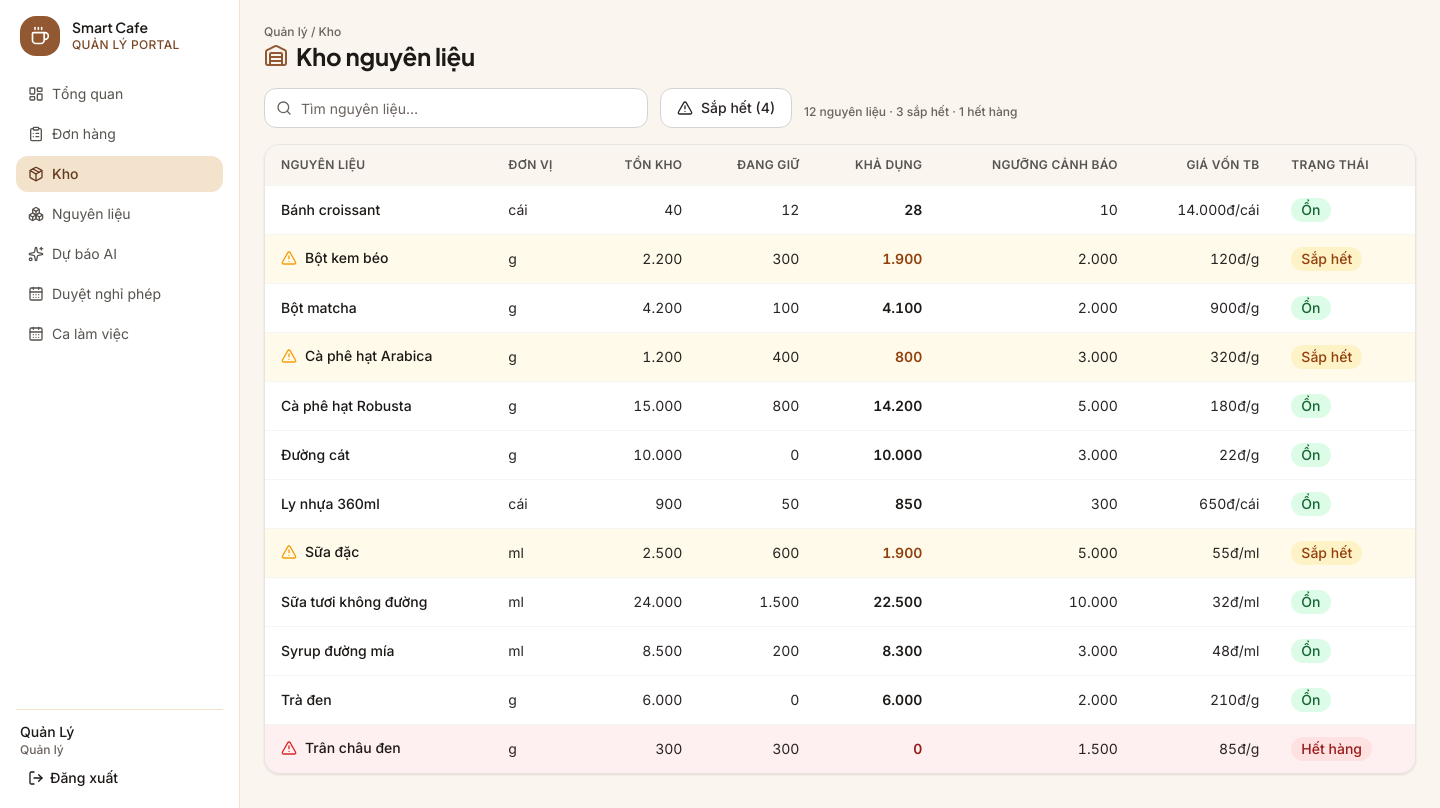
/manager/inventory › điều chỉnh kho thành công: validate lý do, cập nhật bảng, ghi log và tăng version
Click the button "Cà phê hạt Robusta" at (346, 406), box 281,396 -> 412,416
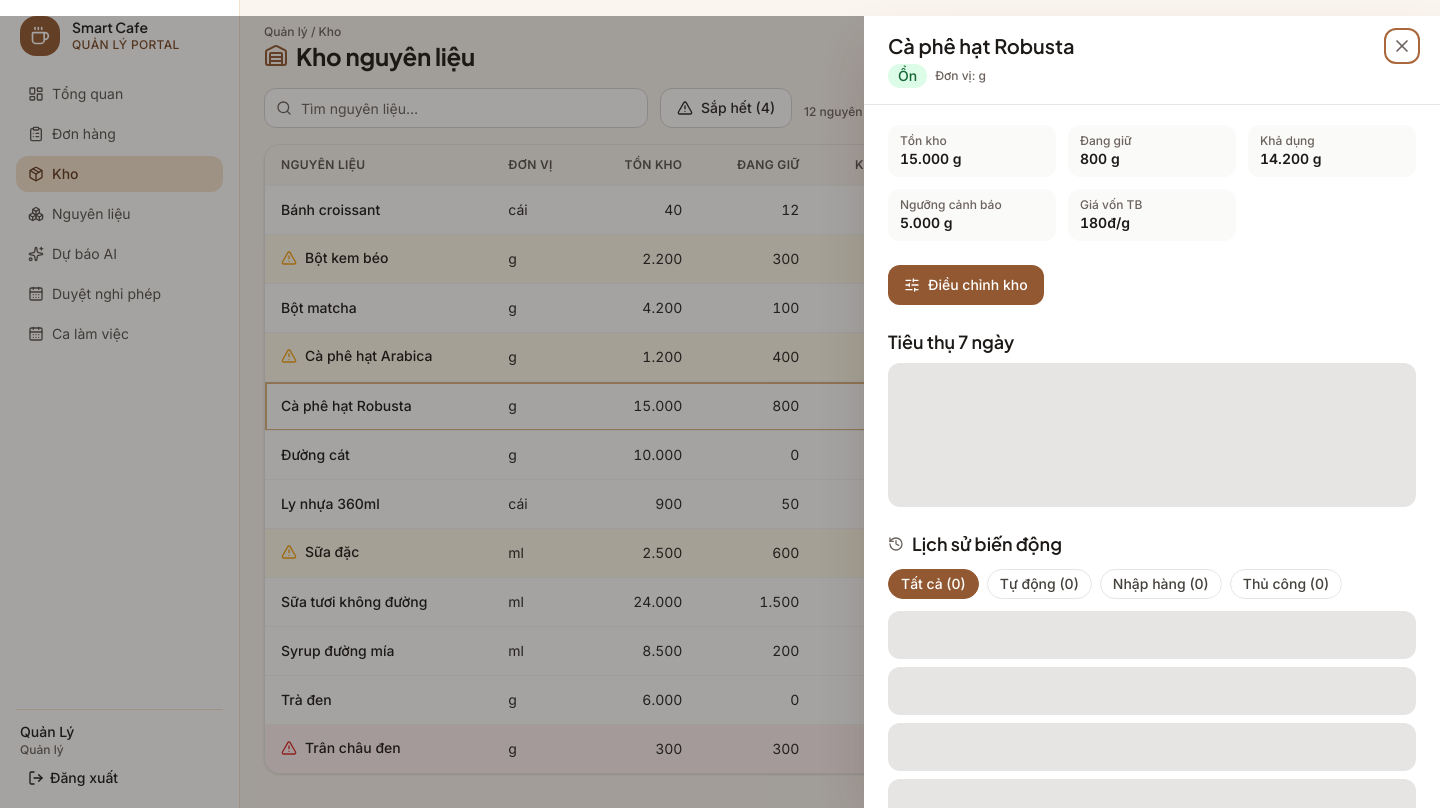
Click the button "Điều chỉnh kho" at (966, 285), box 888,265 -> 1044,305
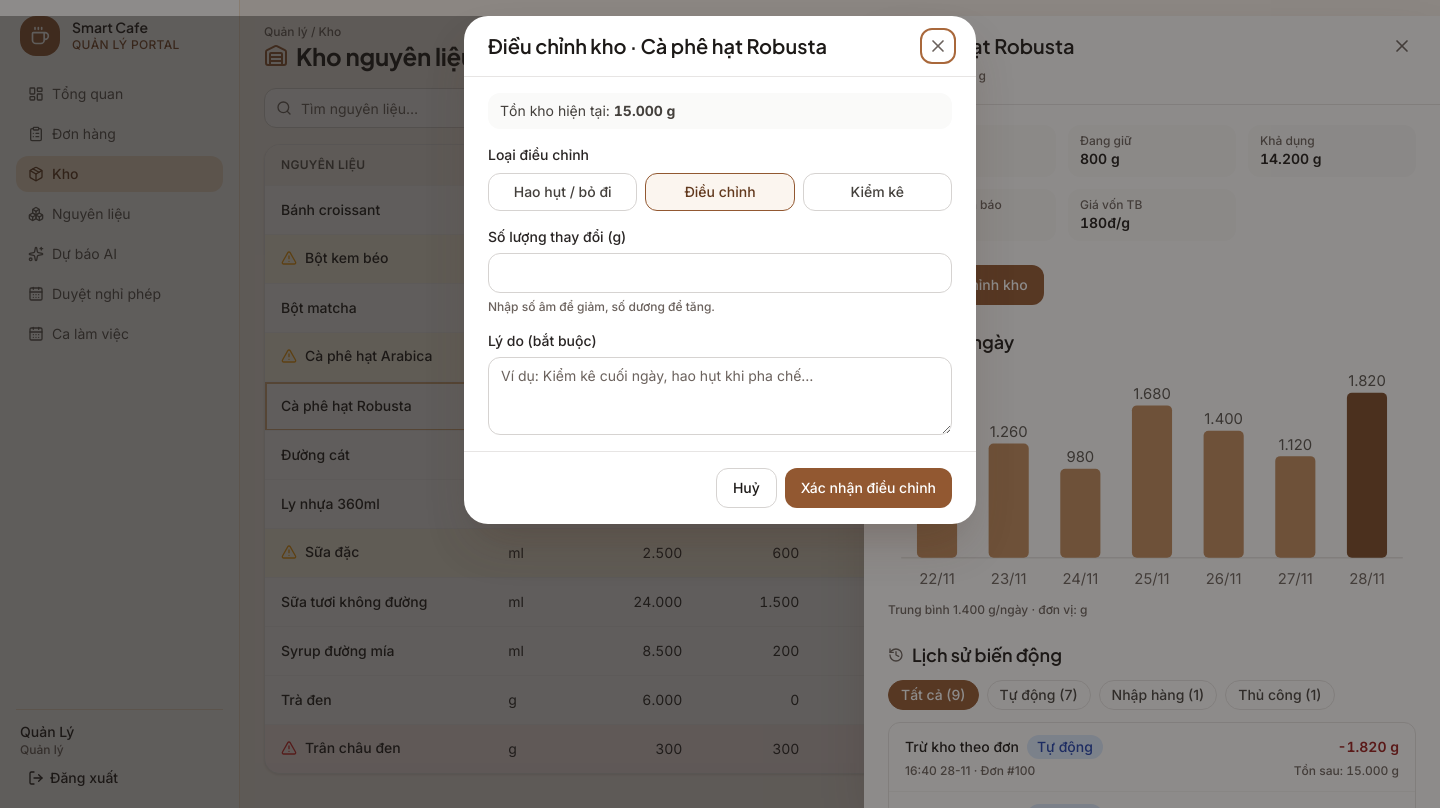
Expected: the heading "Điều chỉnh kho · Cà phê hạt Robusta" is shown, 488,32 -> 827,60
Type "-500" into the number field labelled "Số lượng thay đổi (g)" at (720, 273), box 488,253 -> 952,293
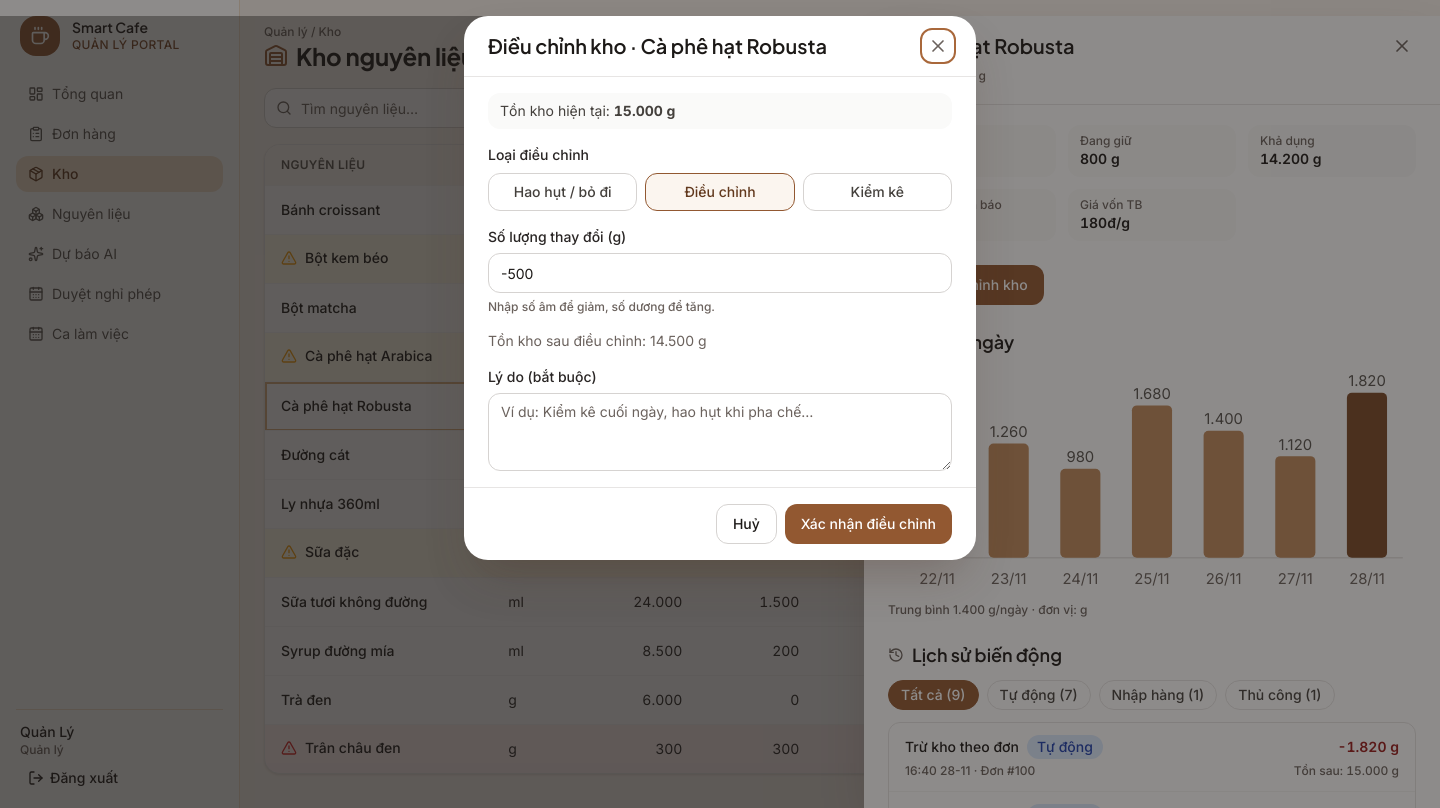
Click the button "Xác nhận điều chỉnh" at (868, 524), box 785,504 -> 952,544
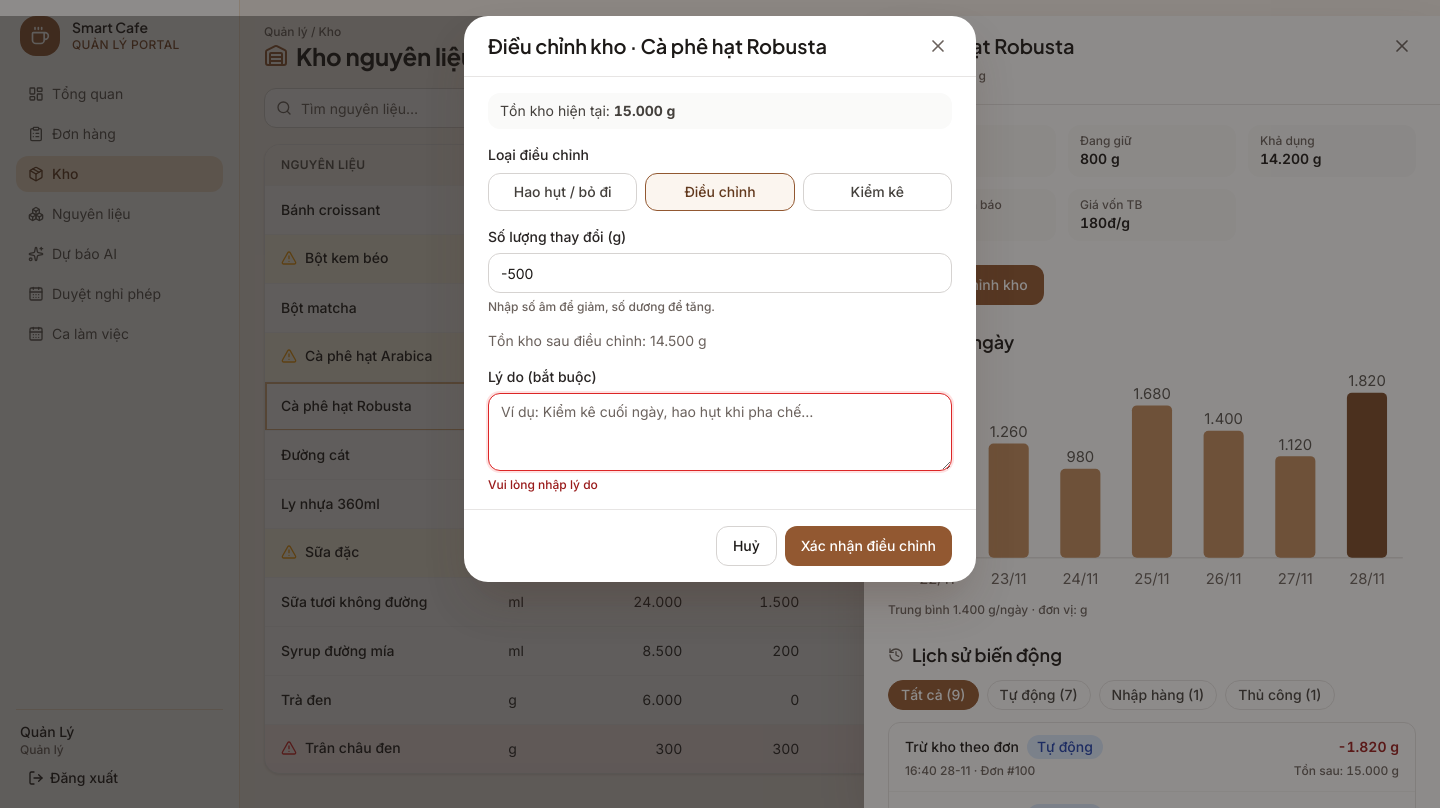
Expected: the text "Vui lòng nhập lý do" is shown, 488,477 -> 598,492
Type "Đổ nhầm bao hạt" into the text box labelled "Lý do (bắt buộc)" at (720, 432), box 488,393 -> 952,471
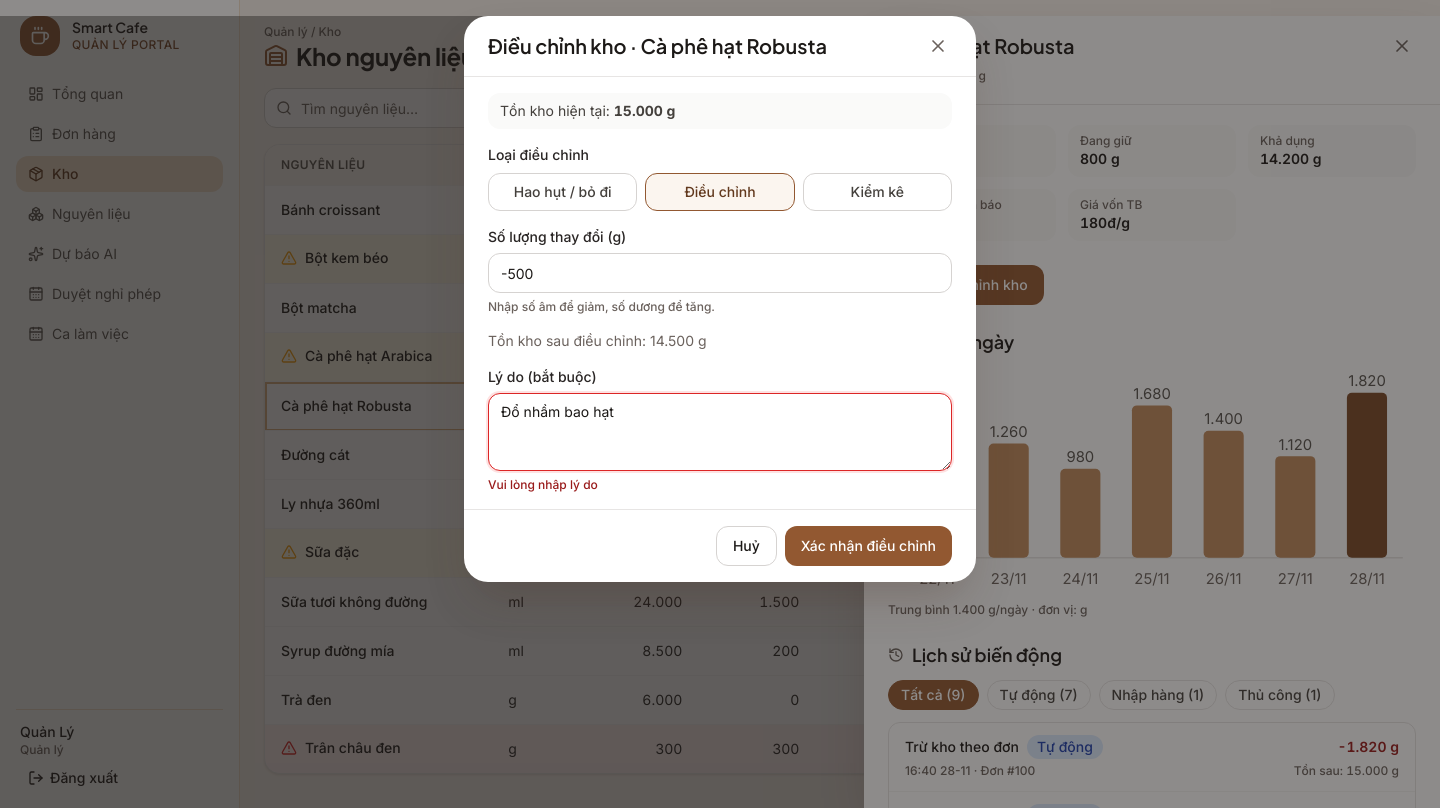
Click the button "Xác nhận điều chỉnh" at (868, 546), box 785,526 -> 952,566
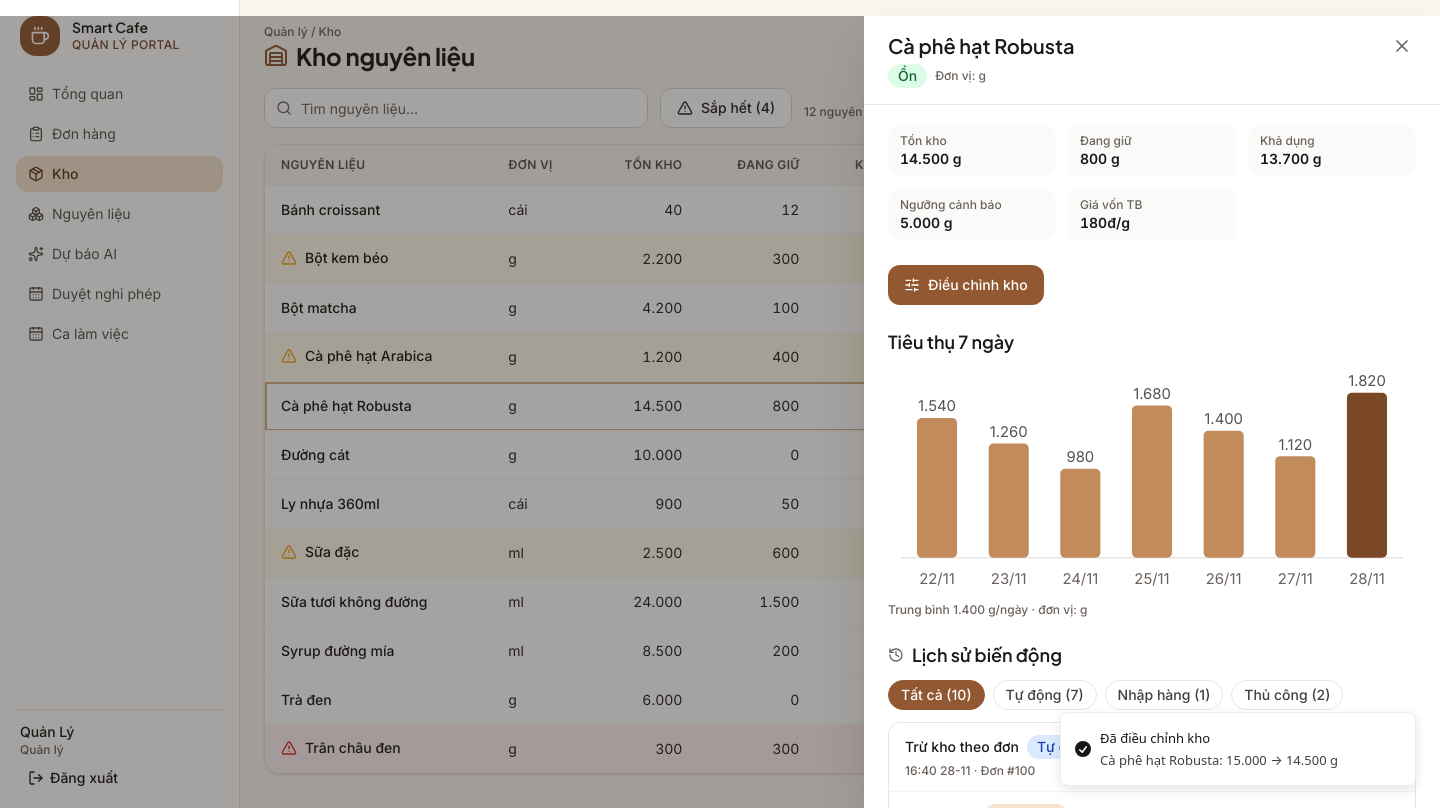
Expected: the text "Đã điều chỉnh kho" is shown, 1100,729 -> 1210,747
Expected: the row "Cà phê hạt Robusta" shows "14.500", 633,397 -> 682,414
